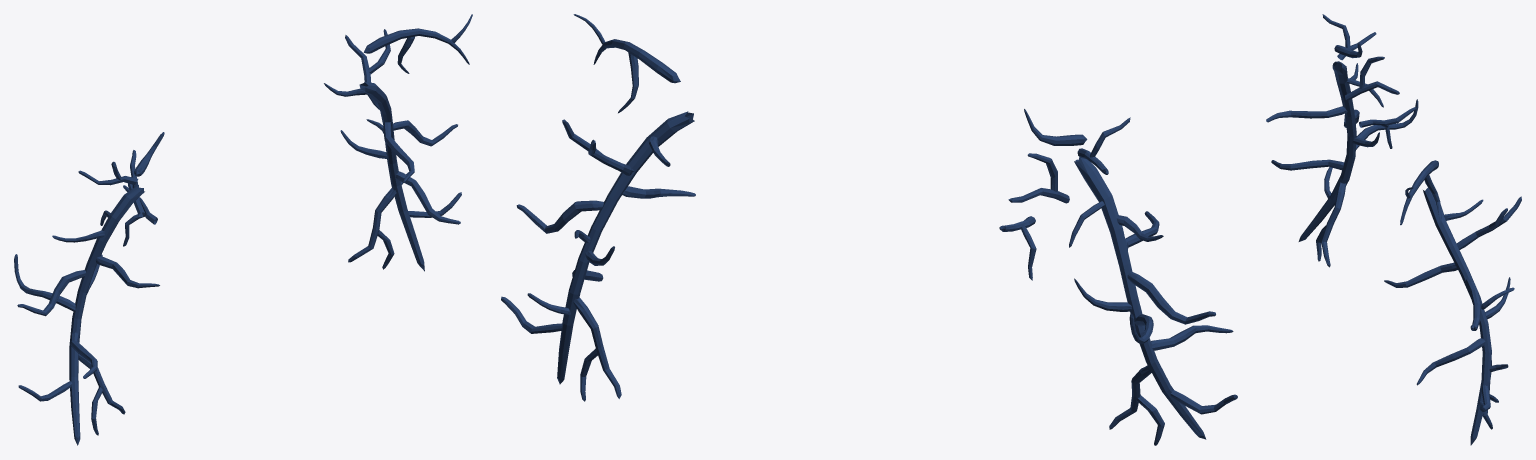
Rendered from Artérias Pulmonares.FBX.
The picture shows the model from 3 angles, left to right: view 1: azimuth 30°, elevation 25°; view 2: azimuth 150°, elevation 25°; view 3: azimuth 270°, elevation 25°; orthographic projection. The views are drawn at different scales.
Parts seen in each view (by area): view 1: CS_Veins; view 2: CS_Veins; view 3: CS_Veins.
Part boxes in pixels (box(x1,y1,x2,y2)): CS_Veins: box(14, 14, 472, 445); CS_Veins: box(501, 14, 1237, 445); CS_Veins: box(1266, 14, 1521, 445).
Bounding box in the file's own units: 423 × 220 × 185.
